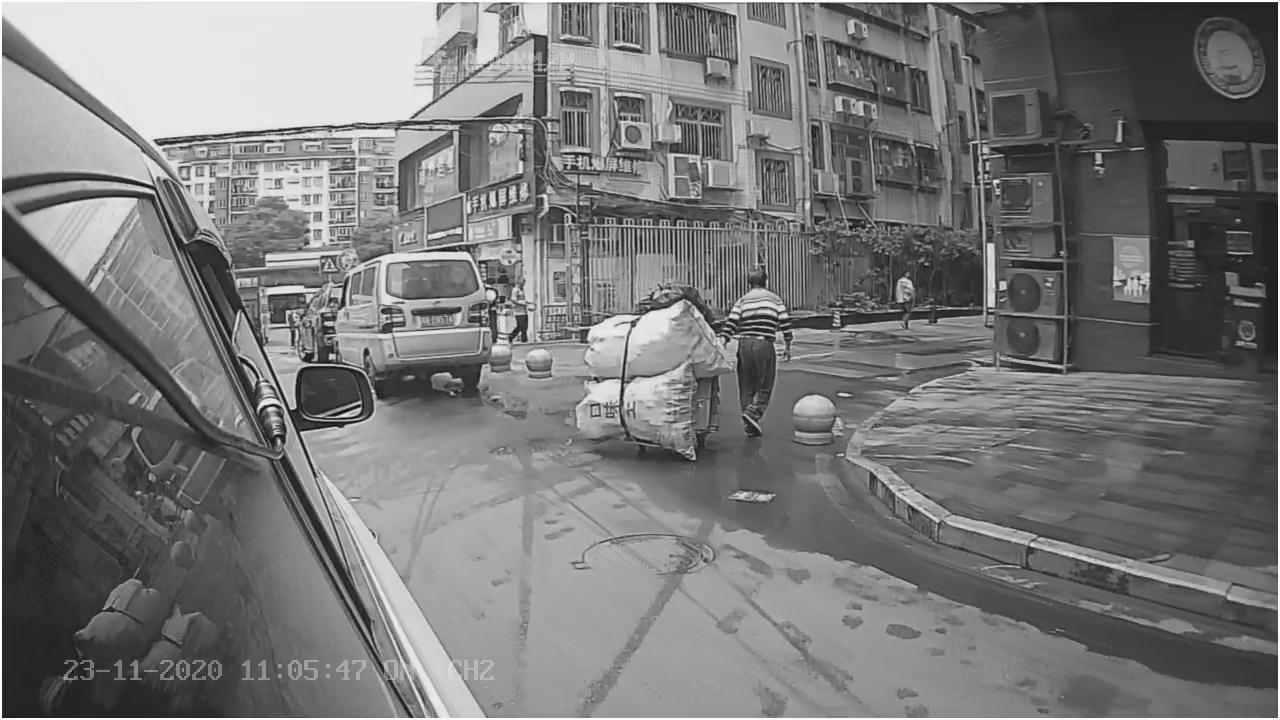person: (726, 264, 795, 442)
